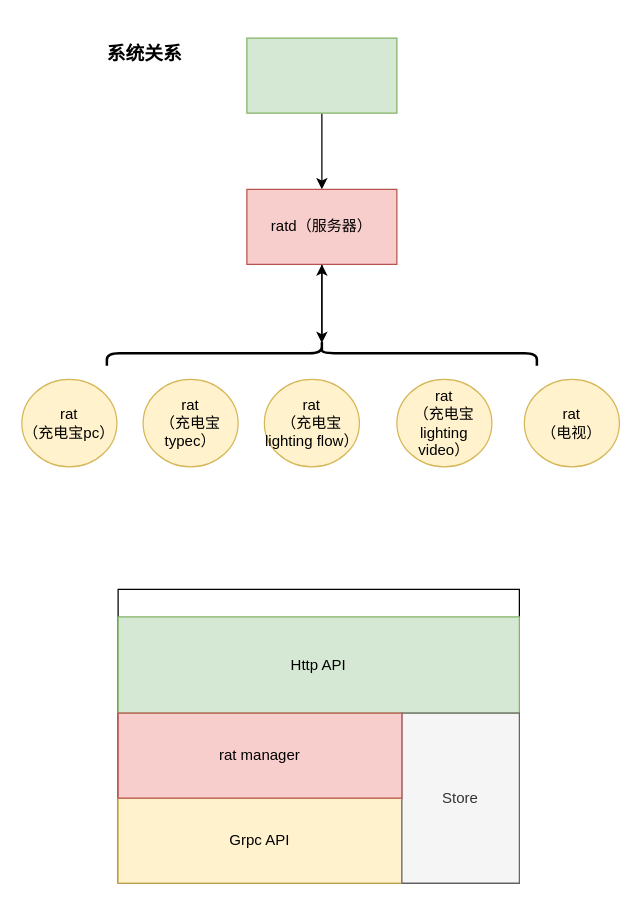
Image size: 641x905. Some labels were removed from this diagram. The box of each missing label's shape, as (x1, y1, x2, y2) in pixels:
ratd层级关系: (117, 588, 519, 883)
web（前端）: (246, 37, 397, 113)
